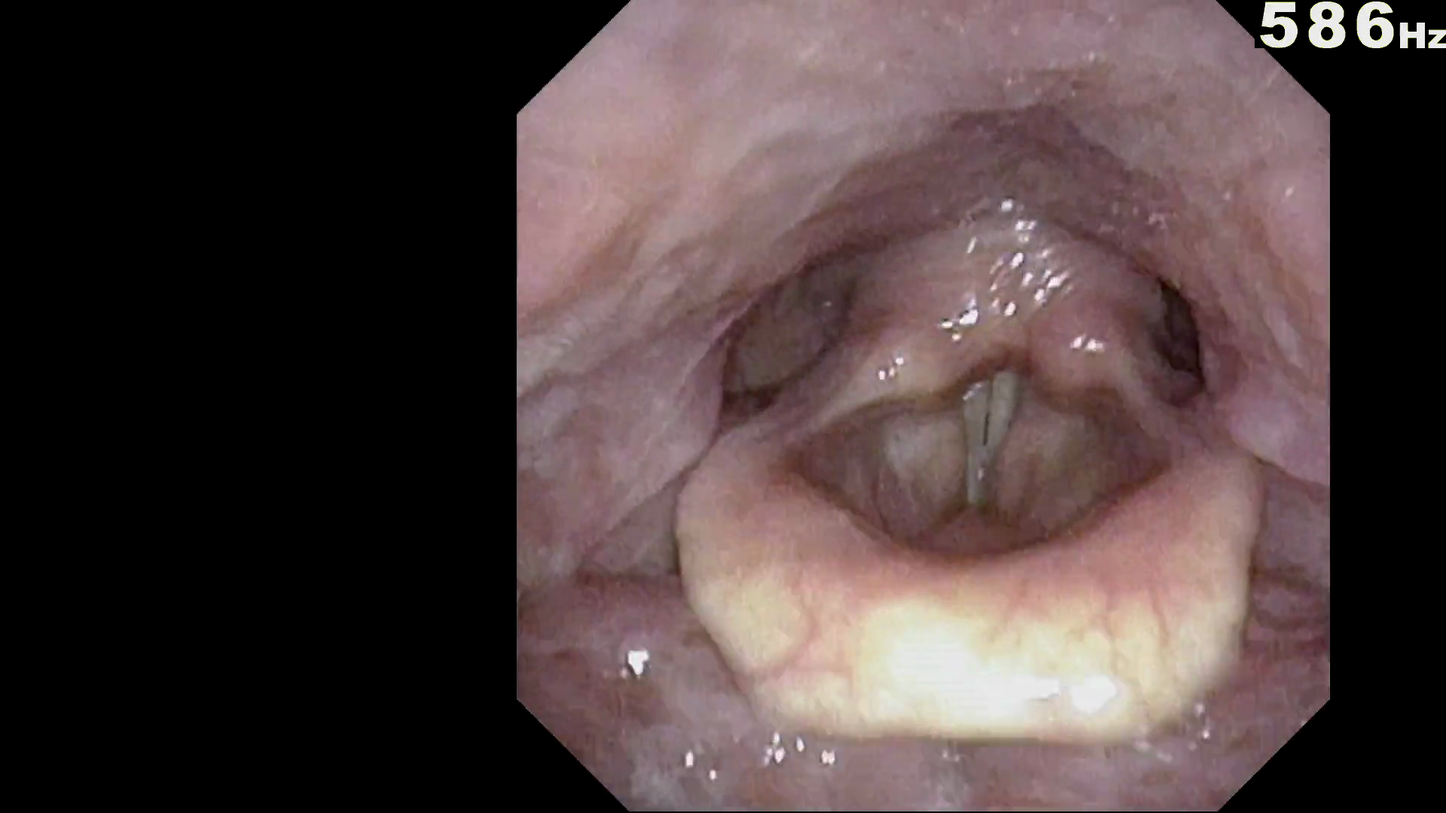epiglottis: (722, 410, 1216, 600)
